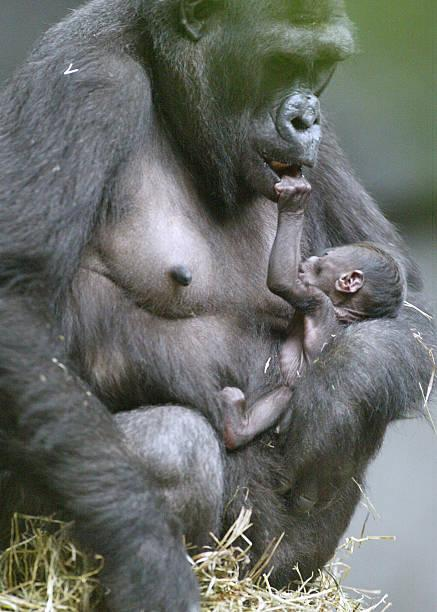gorille_Autres: (12, 0, 425, 594)
